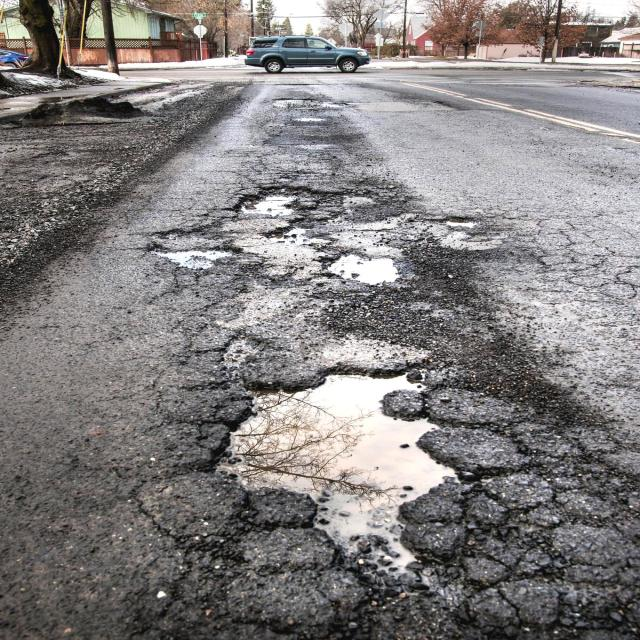pothole: (210, 374, 466, 577), (155, 182, 439, 292), (270, 88, 358, 166), (444, 202, 500, 263)
